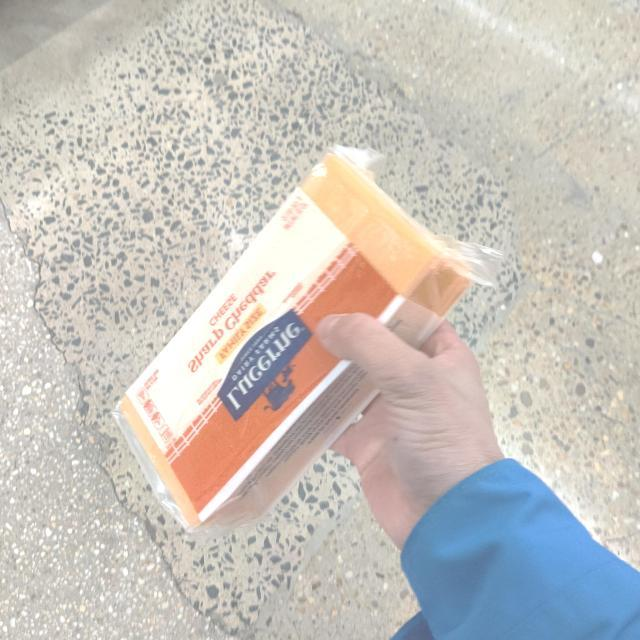Cheese: (107, 153, 468, 536)
